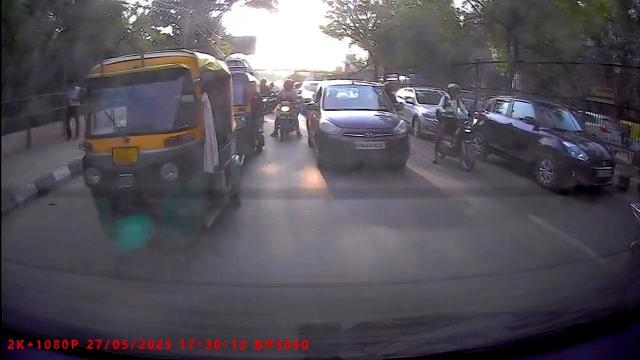motorcycle_with_helmet: (428, 81, 487, 173), (271, 79, 303, 142)
